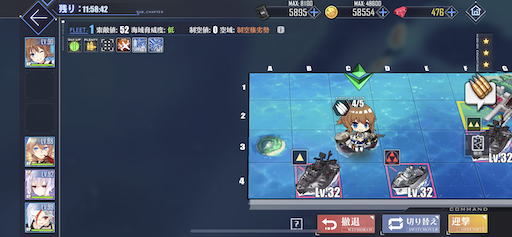lv1: (292, 149, 339, 197)
lv2: (467, 118, 511, 161)
lv3: (385, 151, 434, 197)
